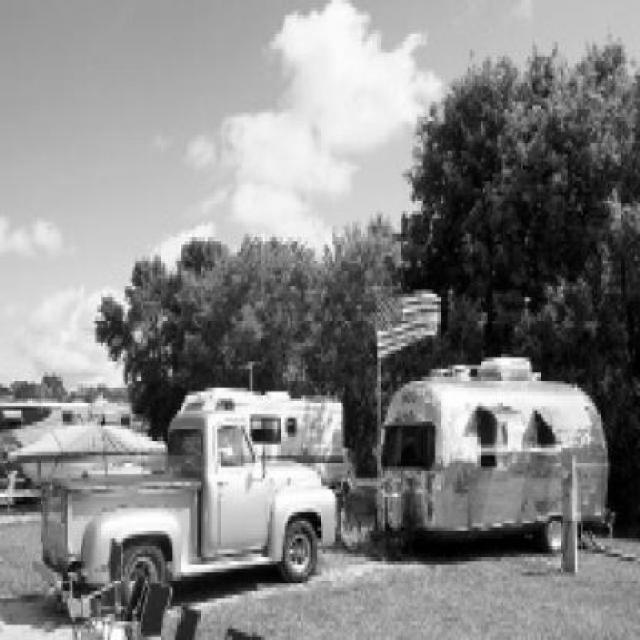Box Truck: (372, 357, 611, 561)
Pickup: (33, 413, 339, 621)
